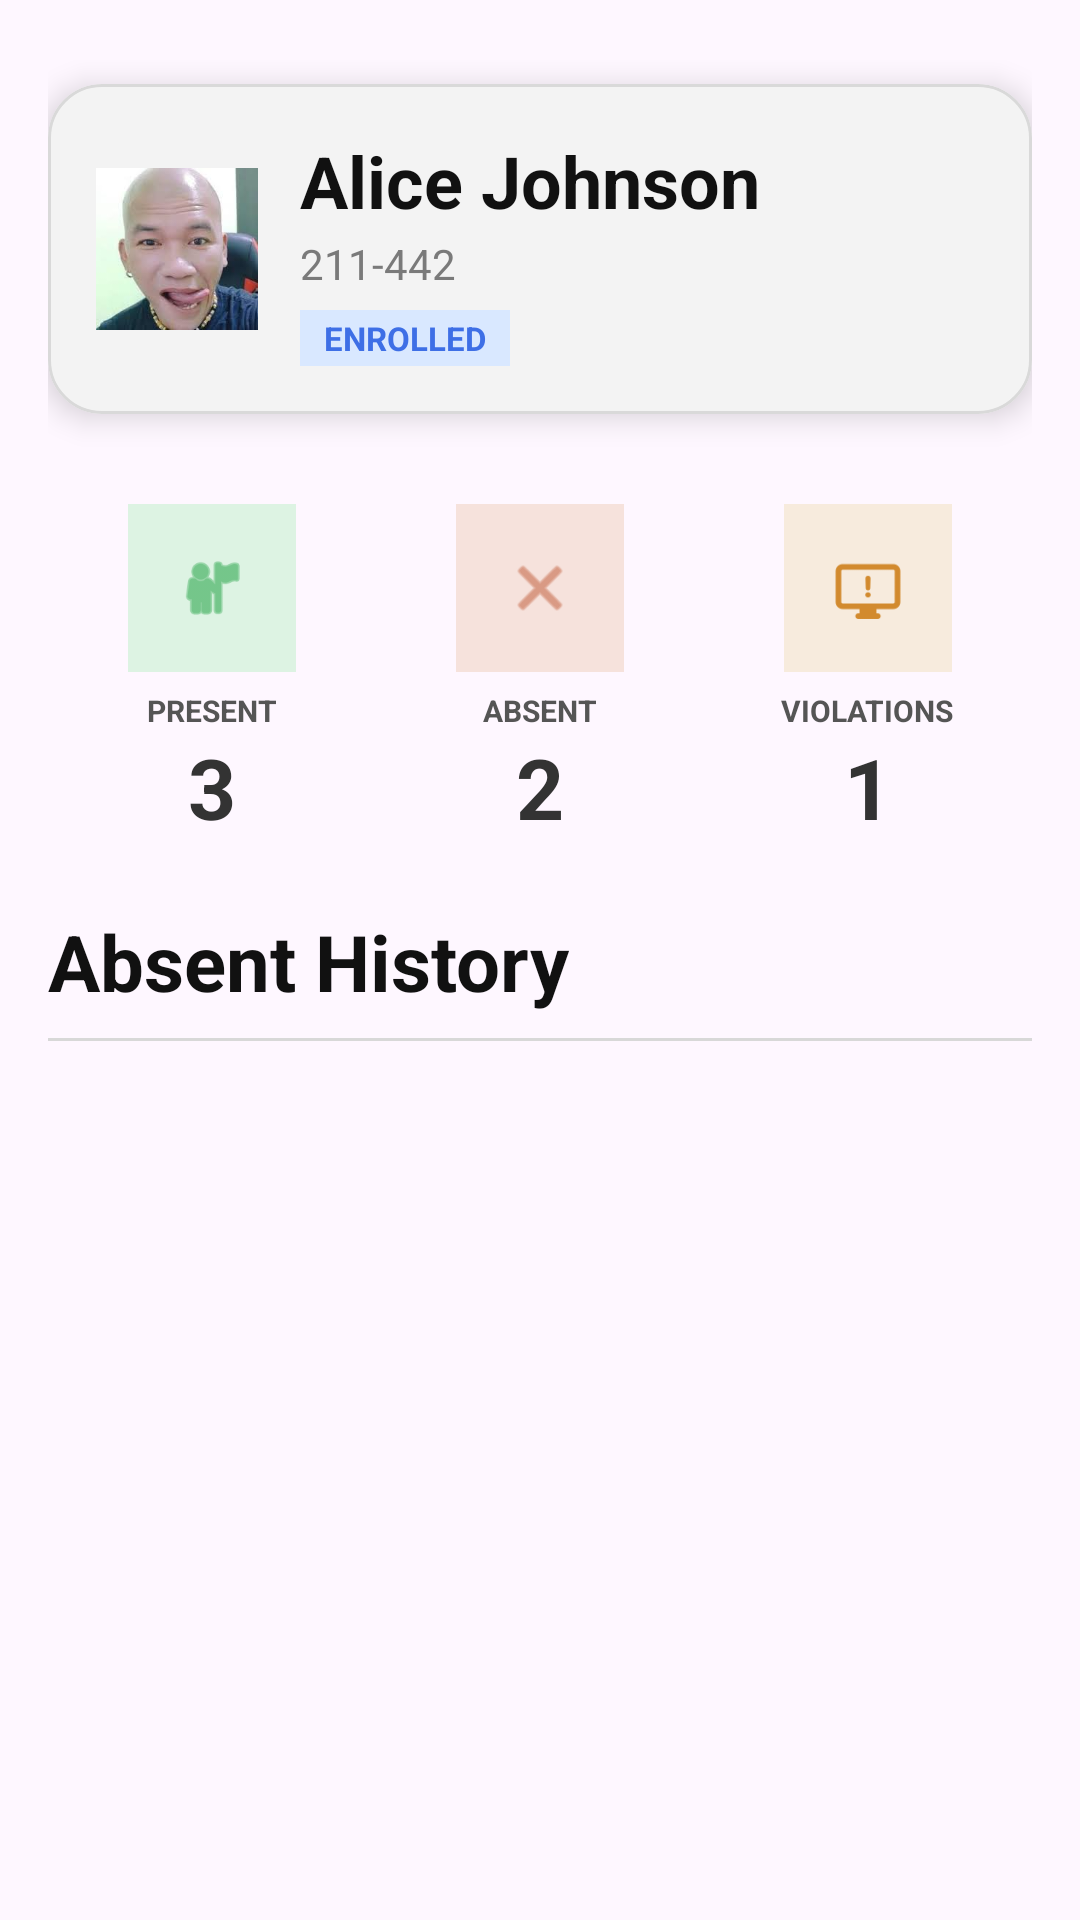

Icon bounding boxes for this 1080x1920 phone screenshot, format (x1, y1, x2, y2):
close clear cancel: (518, 566, 562, 610)
myplaces: (186, 561, 240, 615)
system report: (835, 563, 901, 619)
